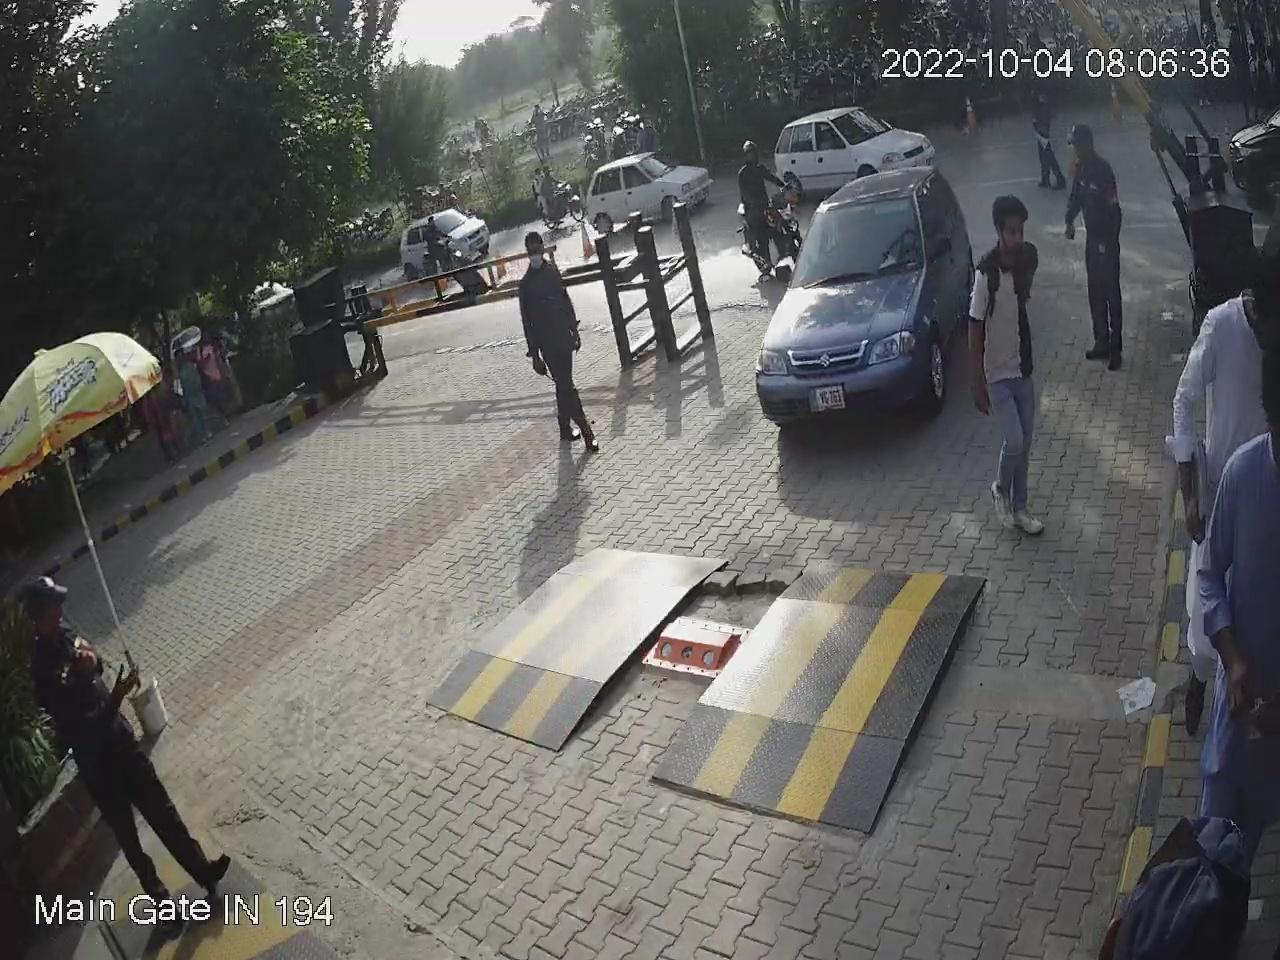windshield: (780, 183, 923, 292)
